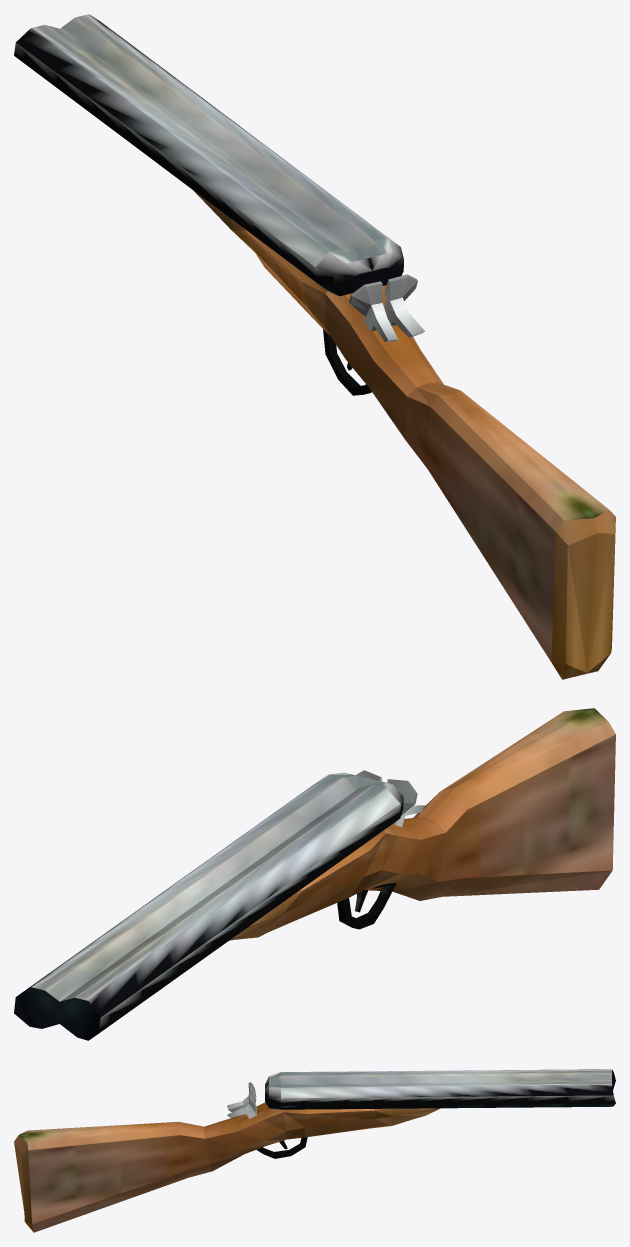
Rendered from shoot0039.obj.
3 renders of one model, top to bottom at view 1: azimuth 30°, elevation 25°; view 2: azimuth 150°, elevation 25°; view 3: azimuth 270°, elevation 25°, orthographic. The views are drawn at different scales.
Visible parts, largest first — view 1: Cube, Cube.001, Cube.003, Cube.002; view 2: Cube, Cube.001, Cube.002, Cube.003; view 3: Cube, Cube.001, Cube.003, Cube.002.
Boxes of the visible parts, x1=… form: Cube: x1=193, y1=190, x2=615, y2=679; Cube.001: x1=14, y1=14, x2=403, y2=296; Cube.003: x1=349, y1=274, x2=424, y2=342; Cube.002: x1=323, y1=329, x2=371, y2=395; Cube: x1=229, y1=708, x2=615, y2=940; Cube.001: x1=14, y1=772, x2=403, y2=1040; Cube.002: x1=337, y1=883, x2=396, y2=929; Cube.003: x1=356, y1=770, x2=424, y2=826; Cube: x1=14, y1=1102, x2=440, y2=1232; Cube.001: x1=265, y1=1069, x2=615, y2=1109; Cube.003: x1=227, y1=1082, x2=256, y2=1118; Cube.002: x1=256, y1=1137, x2=307, y2=1158.
Bounding box in the file's own units: 0.2059 × 0.6277 × 2.26.
Materials: 1 (1 with a texture image).
